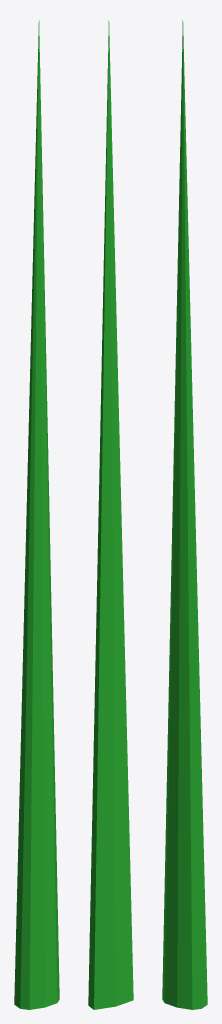
File: tall grass.fbx
The picture shows the model from 3 angles, left to right: view 1: azimuth 30°, elevation 25°; view 2: azimuth 210°, elevation 25°; view 3: azimuth 330°, elevation 25°; orthographic projection.
Visible parts, largest first — view 1: grass_pointy; view 2: grass_pointy; view 3: grass_pointy.
Part boxes in pixels (box(x1,y1,x2,y2)): grass_pointy: box(14, 20, 59, 1009); grass_pointy: box(88, 20, 133, 1009); grass_pointy: box(162, 20, 207, 1009).
Bounding box in the file's own units: 283 × 6723 × 157.
